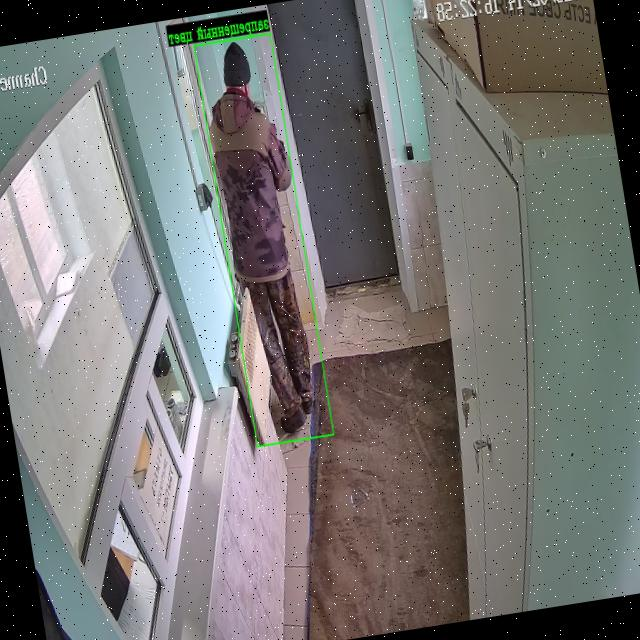Person: (210, 42, 312, 417)
